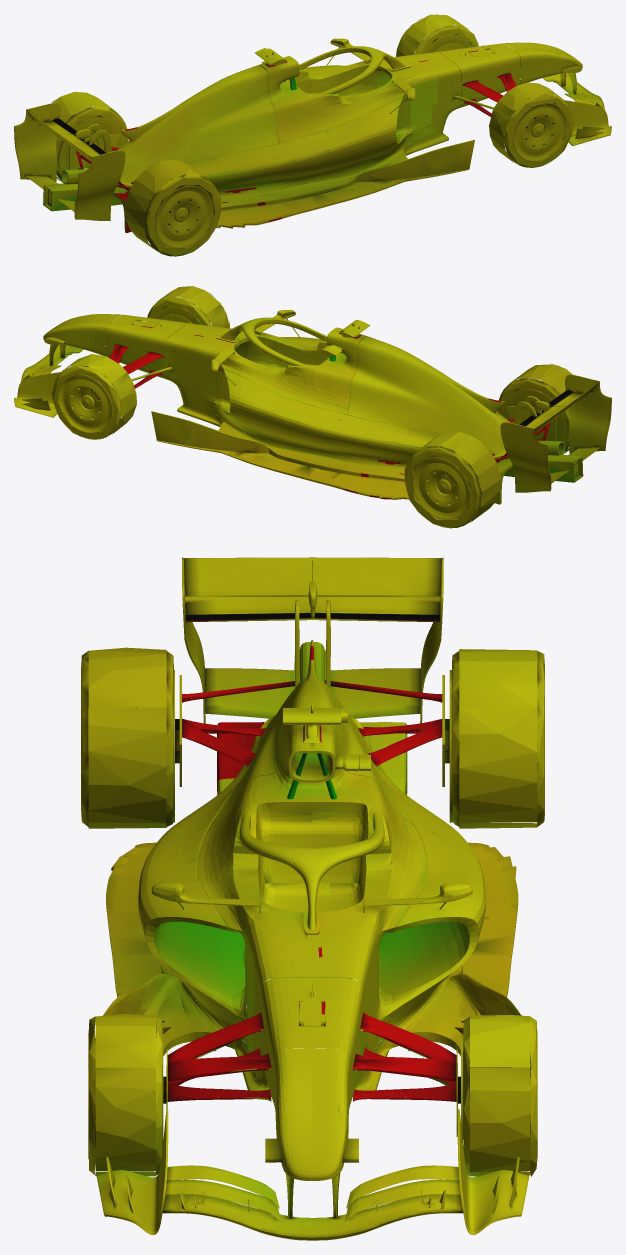
File: car.glb
The picture shows the model from 3 angles, top to bottom: view 1: azimuth 30°, elevation 25°; view 2: azimuth 150°, elevation 25°; view 3: azimuth 270°, elevation 25°; orthographic projection. The views are drawn at different scales.
Visible parts, largest first — view 1: survivalCell, sidepods_cover, sidepods_R, floor, tyres_R_tyre, tyres_R_rim, rearWing_endplate, tyres_L_tyre, tyres_L_rim, halo, suspension, frontWing_endplate (+3 smaller); view 2: survivalCell, sidepods_cover, sidepods_L, floor, tyres_L_tyre, tyres_L_rim, rearWing_endplate, tyres_R_tyre, tyres_R_rim, halo, suspension, frontWing_endplate (+3 smaller); view 3: survivalCell, tyres_R_tyre, tyres_L_tyre, floor, suspension, sidepods_R, sidepods_L, sidepods_cover, rearWing_flap1_mesh, rearWing_pylon, frontWing_body, frontWing_endplate (+7 smaller).
Part boxes in pixels (x1,y1,x2,y2): survivalCell: [43, 38, 582, 211]; sidepods_cover: [61, 48, 314, 185]; sidepods_R: [127, 72, 442, 193]; floor: [59, 128, 474, 232]; tyres_R_tyre: [125, 82, 573, 256]; tyres_R_rim: [144, 94, 567, 247]; rearWing_endplate: [14, 103, 125, 220]; tyres_L_tyre: [51, 14, 478, 181]; tyres_L_rim: [58, 34, 471, 173]; halo: [299, 46, 405, 94]; suspension: [76, 48, 516, 232]; frontWing_endplate: [482, 45, 611, 145]; survivalCell: [43, 310, 583, 497]; sidepods_cover: [313, 320, 564, 457]; sidepods_L: [183, 344, 498, 464]; floor: [151, 399, 566, 504]; tyres_L_tyre: [52, 354, 500, 528]; tyres_L_rim: [58, 366, 481, 519]; rearWing_endplate: [500, 374, 611, 492]; tyres_R_tyre: [147, 286, 573, 454]; tyres_R_rim: [154, 306, 567, 444]; halo: [220, 317, 326, 365]; suspension: [109, 320, 550, 499]; frontWing_endplate: [14, 319, 142, 417]; survivalCell: [151, 642, 472, 1180]; tyres_R_tyre: [81, 647, 173, 1176]; tyres_L_tyre: [452, 649, 544, 1176]; floor: [102, 781, 521, 1096]; suspension: [167, 645, 516, 1101]; sidepods_R: [138, 724, 268, 1052]; sidepods_L: [356, 724, 485, 1052]; sidepods_cover: [211, 640, 413, 897]; rearWing_flap1_mesh: [183, 557, 442, 596]; rearWing_pylon: [204, 582, 420, 718]; frontWing_body: [106, 1157, 519, 1240]; frontWing_endplate: [96, 1109, 529, 1234].
Size of the model in its own units: 5.09 by 1.16 by 1.9.
